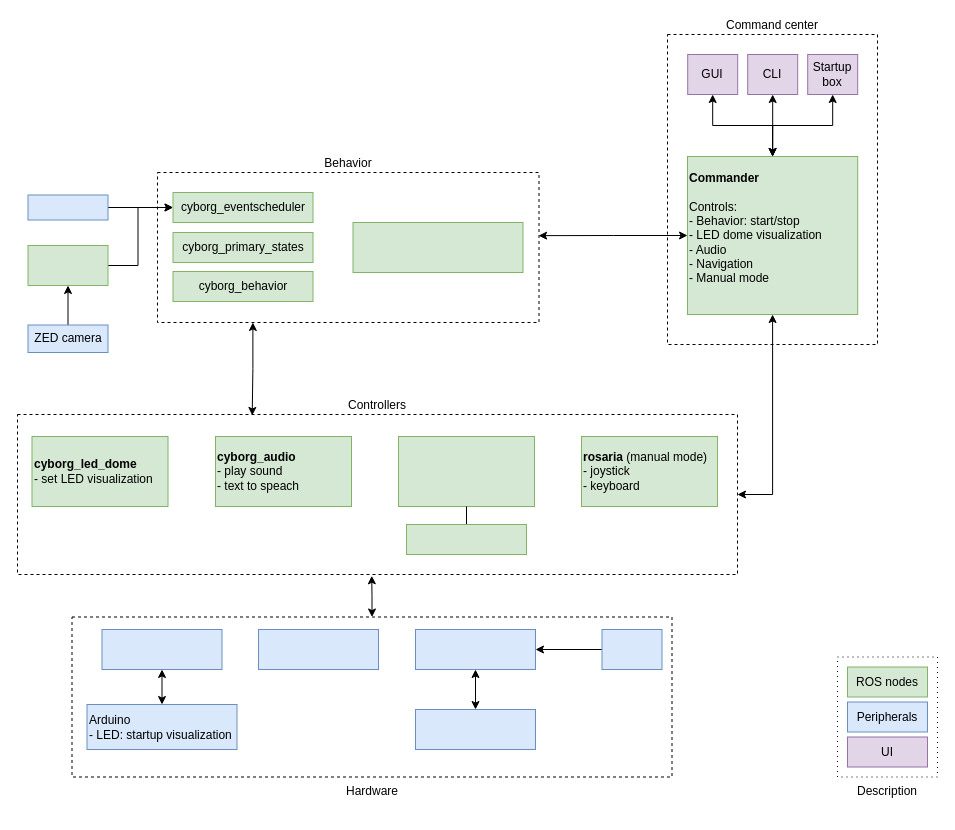
This 955x830 diagram has some shape labels left out. Here are the shapes that lost their labels. From the top down, the centre of each, then its label:
At (x=67, y=207): "Time".
At (x=67, y=265): "Vision".
At (x=437, y=247): "cyborg_controller SMACH state-machine".
At (x=466, y=471): "cyborg_navigation - go to point - wander - dock".
At (x=466, y=539): "rosarnl".
At (x=161, y=649): "LED dome".
At (x=318, y=649): "Speakers".
At (x=475, y=649): "Pioneer LX".
At (x=631, y=649): "Joystick".
At (x=475, y=729): "Laser, sonar, bumper".
